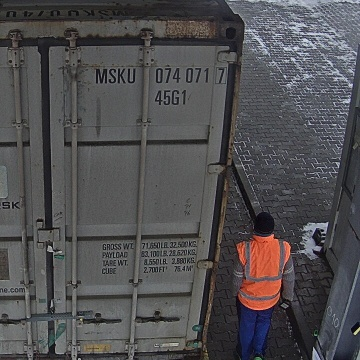serial_id: (95, 67, 225, 83)
